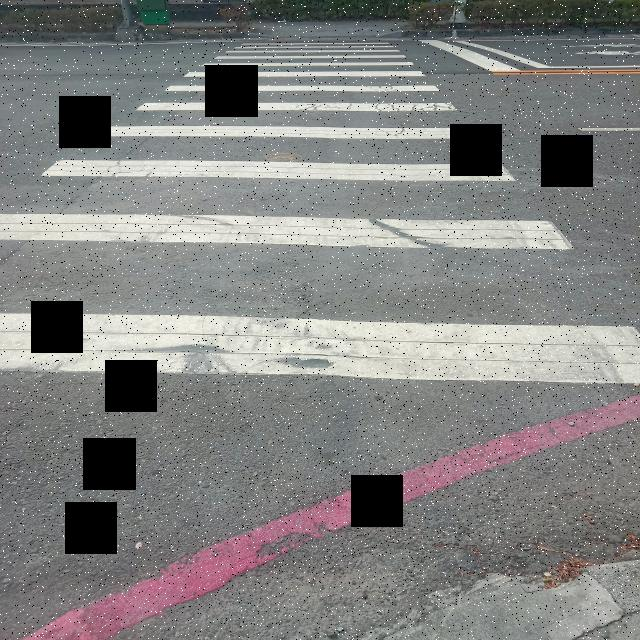zebra_crossing: (3, 52, 9, 363)
